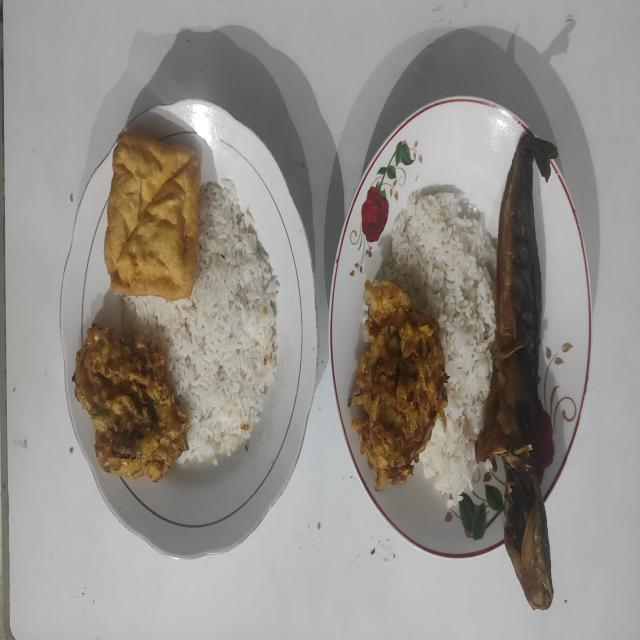nasi_putih: (124, 180, 280, 464), (380, 190, 496, 499)
tahu_goreng: (104, 132, 200, 300)
